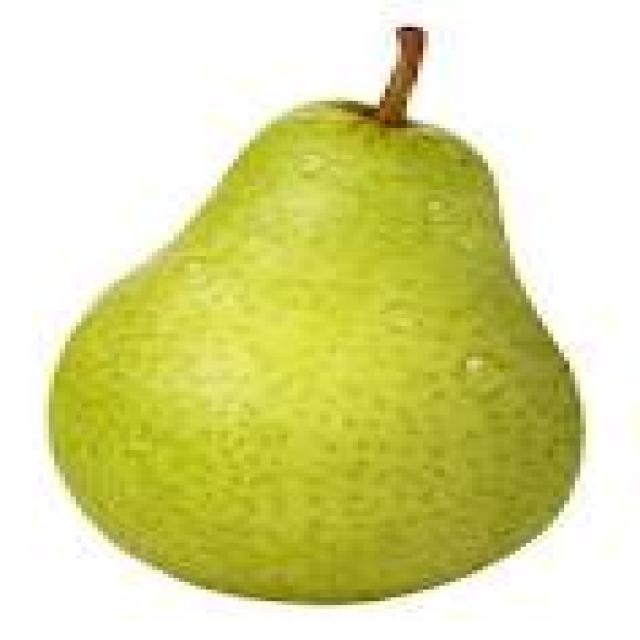Pear: (21, 12, 592, 620)
